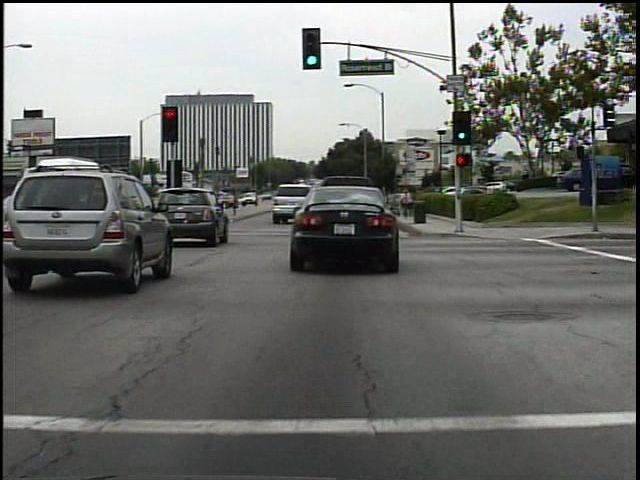person: (399, 187, 415, 222)
